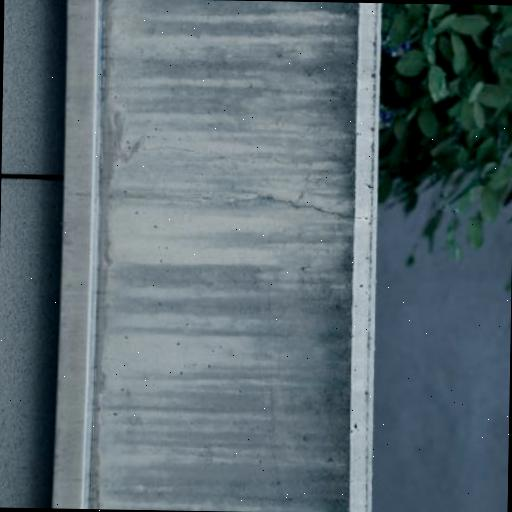spalling: (259, 186, 356, 226), (7, 165, 59, 184)
